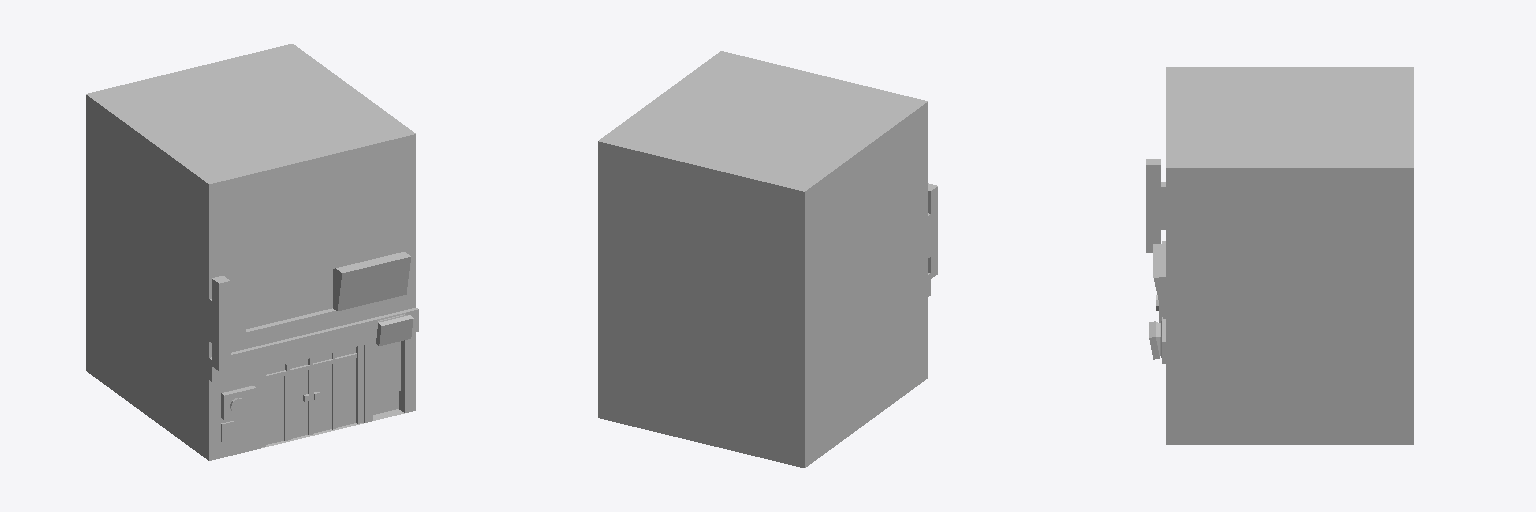
Rendered from Building 1.2.obj.
The picture shows the model from 3 angles: view 1: azimuth 30°, elevation 25°; view 2: azimuth 150°, elevation 25°; view 3: azimuth 270°, elevation 25°; orthographic projection.
Parts seen in each view (by area): view 1: Cube_(2); view 2: Cube_(2); view 3: Cube_(2).
Boxes of the visible parts, x1=… form: Cube_(2): x1=86, y1=44, x2=418, y2=460; Cube_(2): x1=598, y1=51, x2=937, y2=467; Cube_(2): x1=1146, y1=67, x2=1413, y2=444.
Size of the model in its own units: 15.94 by 20.34 by 17.81.